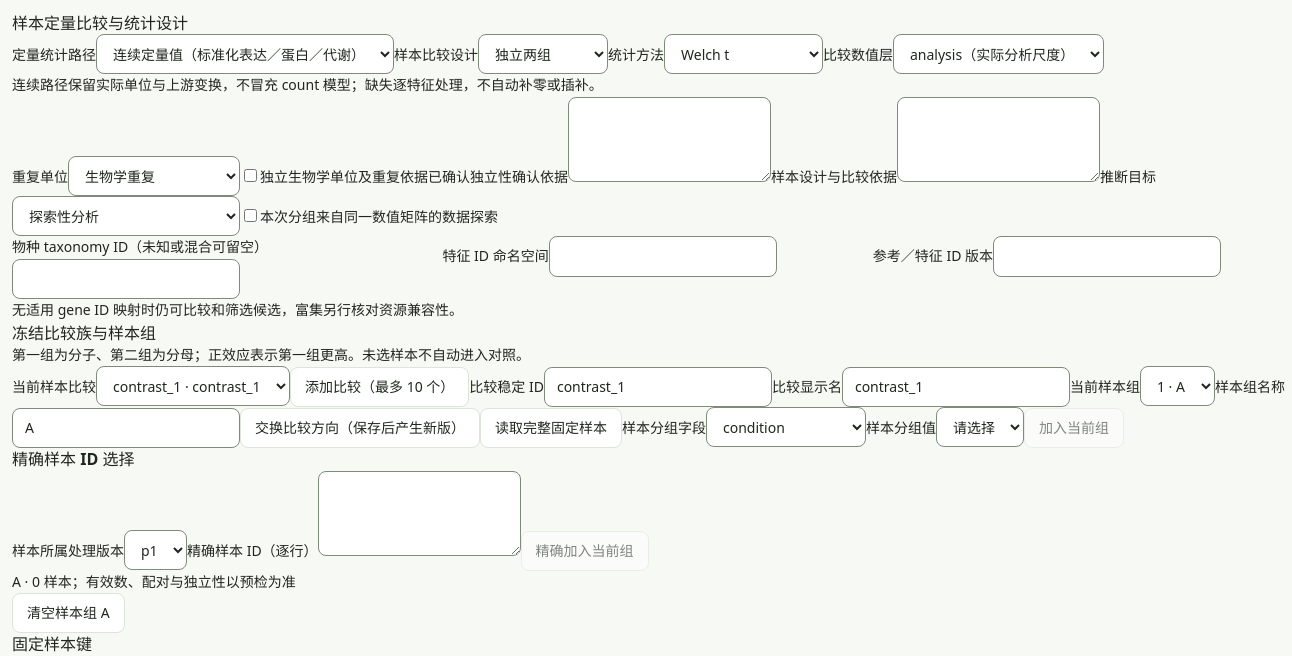
Test: freezes exact sample IDs and leaves biological independence unconfirmed
Later steps or results of the test are not shown.
Click the button "读取完整固定样本". click: (551, 428)
box: x1=480 y1=408 x2=622 y2=448
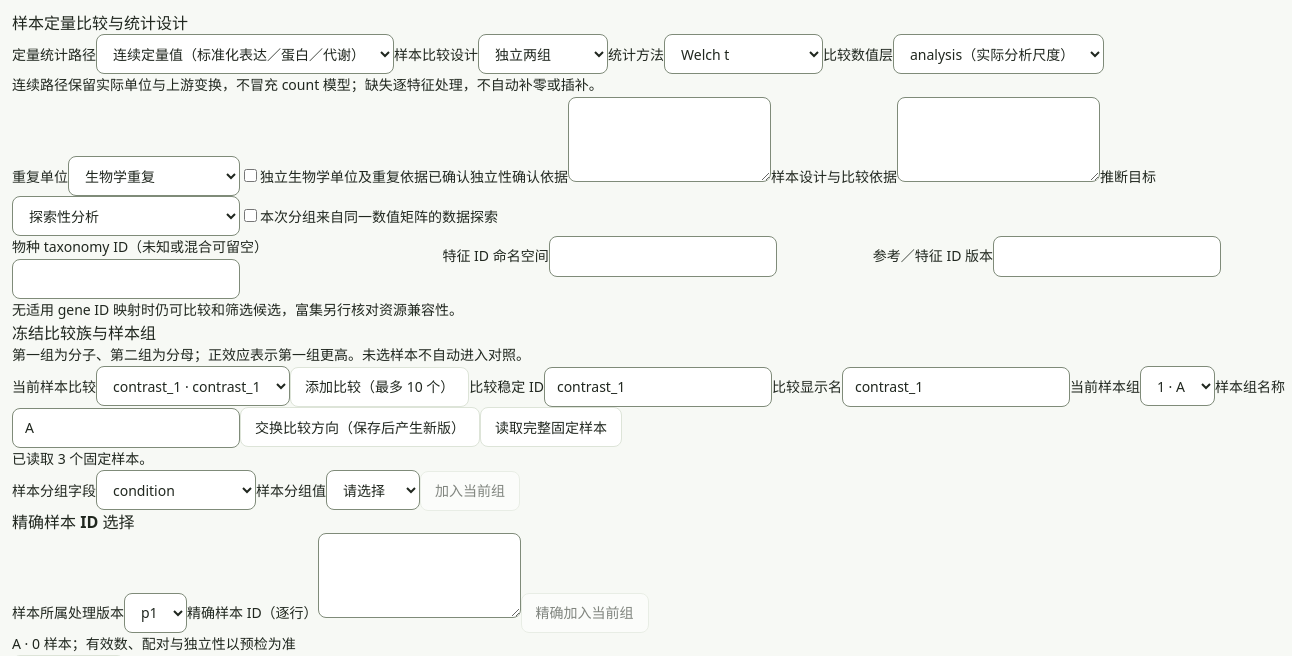
Check: the text "已读取 3 个固定样本。" is shown, box x1=12 y1=449 x2=153 y2=468
